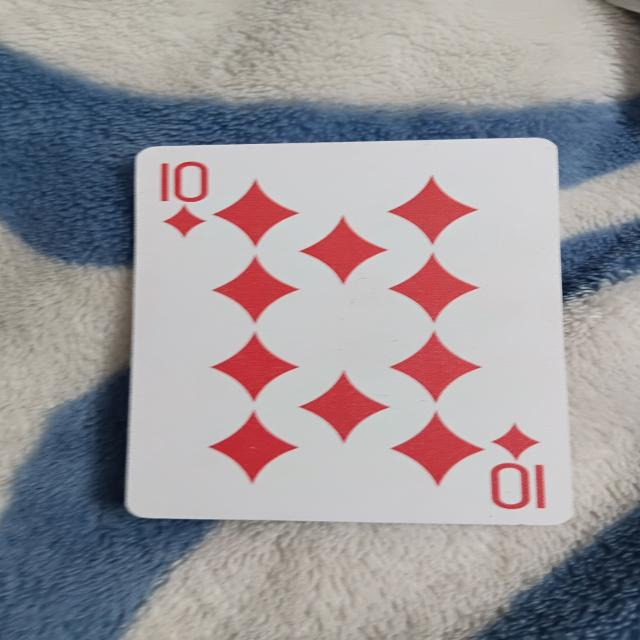10D: (139, 146, 580, 513)
